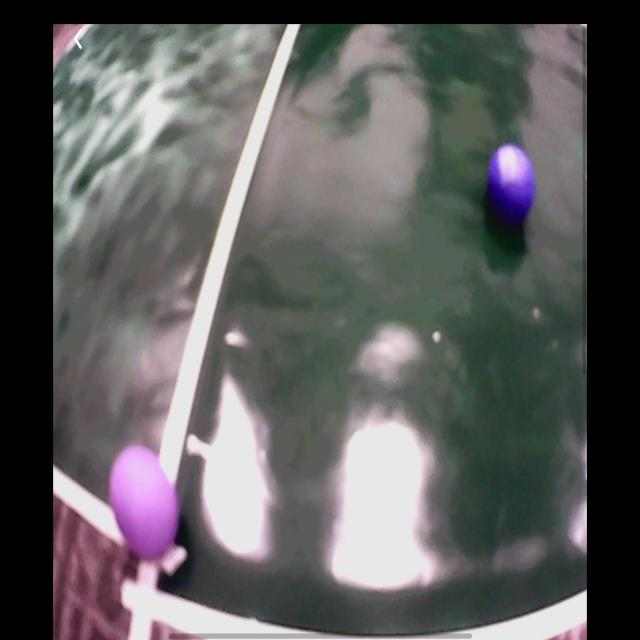ball: (110, 446, 181, 563), (487, 146, 537, 223)
